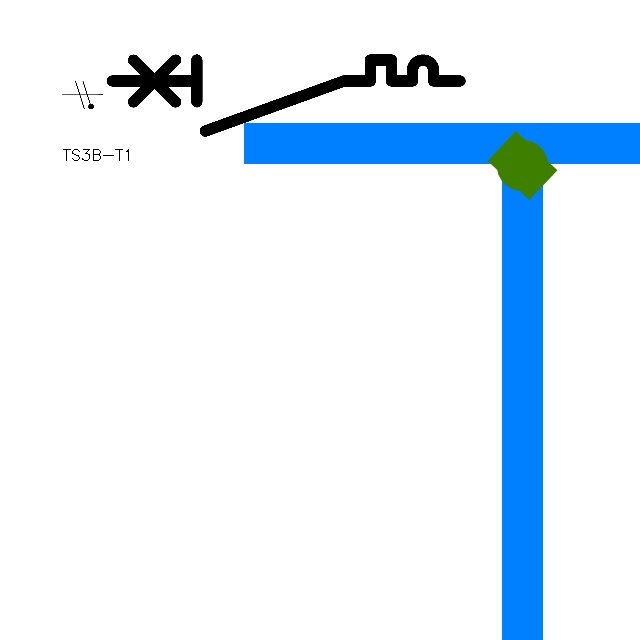interruptor_termomagnetico: (103, 51, 469, 140)
